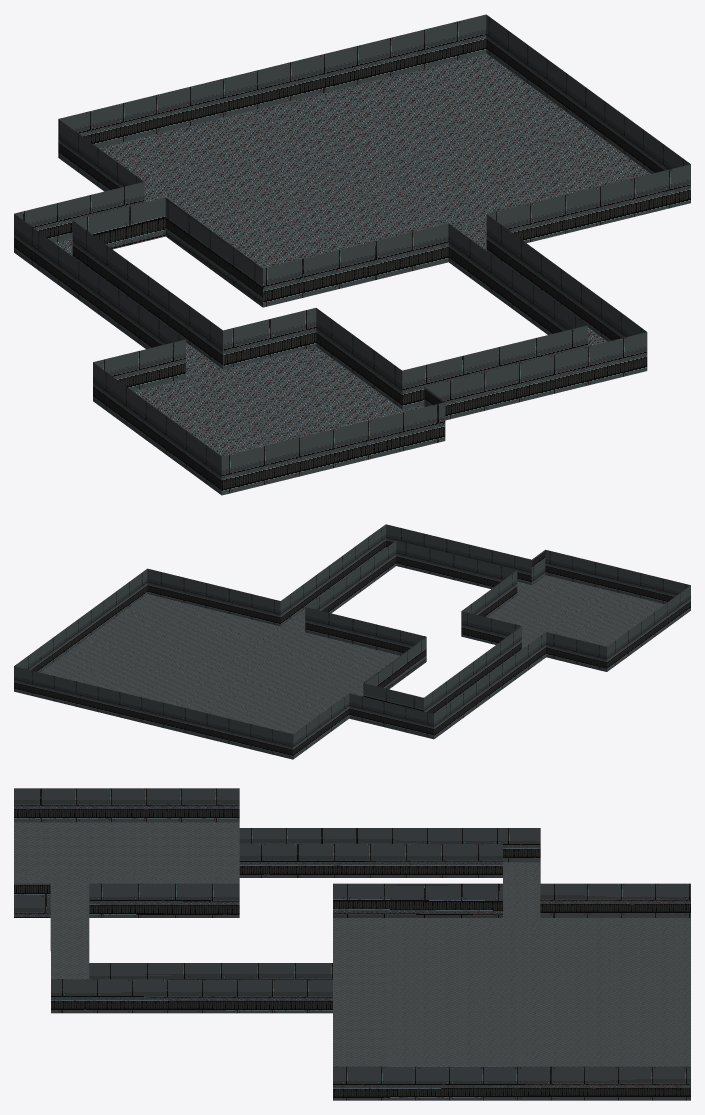
File: testLevelTextured.glb
3 renders of one model, top to bottom at view 1: azimuth 30°, elevation 25°; view 2: azimuth 150°, elevation 25°; view 3: azimuth 270°, elevation 25°, orthographic. The views are drawn at different scales.
Visible parts, largest first — view 1: Plane; view 2: Plane; view 3: Plane.
Boxes of the visible parts, x1=… form: Plane: x1=14, y1=14, x2=690, y2=495; Plane: x1=14, y1=524, x2=690, y2=759; Plane: x1=14, y1=788, x2=690, y2=1100.
Bounding box in the file's own units: 35 × 2 × 36.
Materials: 2 (2 with a texture image).
